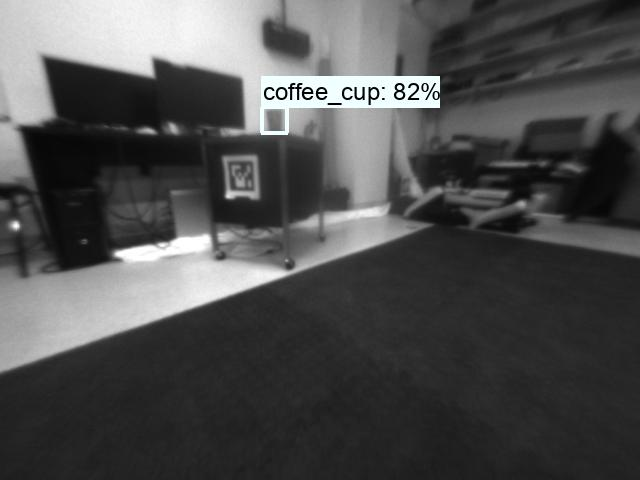coffee_cup: (263, 108, 288, 132)
